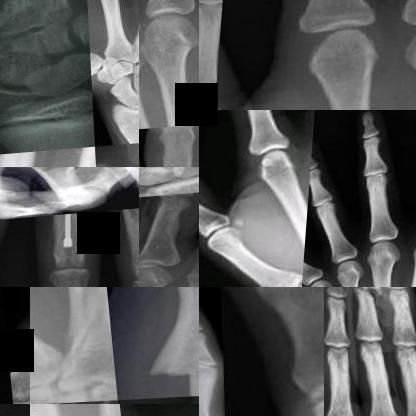fracture: (30, 287, 111, 372), (135, 340, 198, 401), (43, 215, 83, 263), (110, 209, 138, 274), (318, 94, 402, 109), (350, 287, 384, 298)
